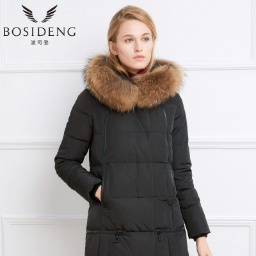face: (104, 5, 161, 73)
